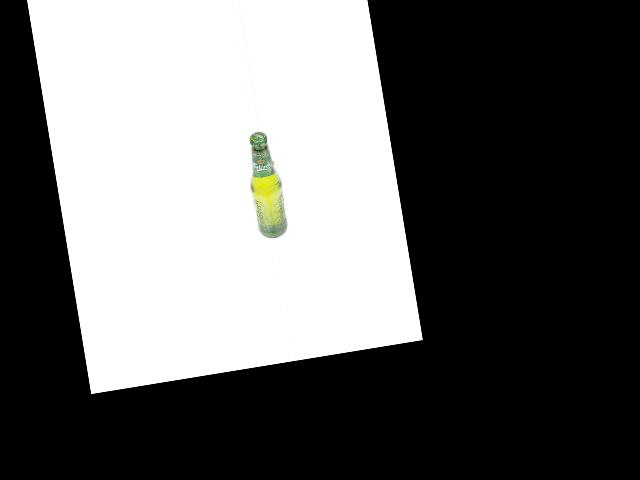beer: (242, 129, 290, 240)
